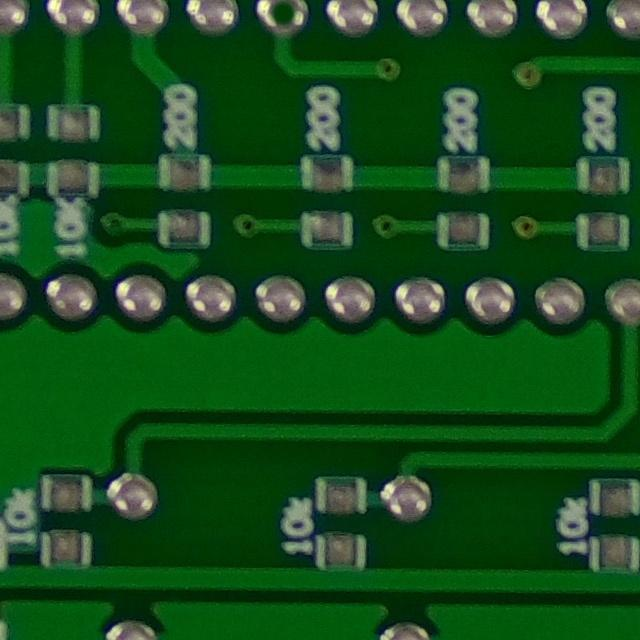missing_hole: (253, 0, 314, 45)
